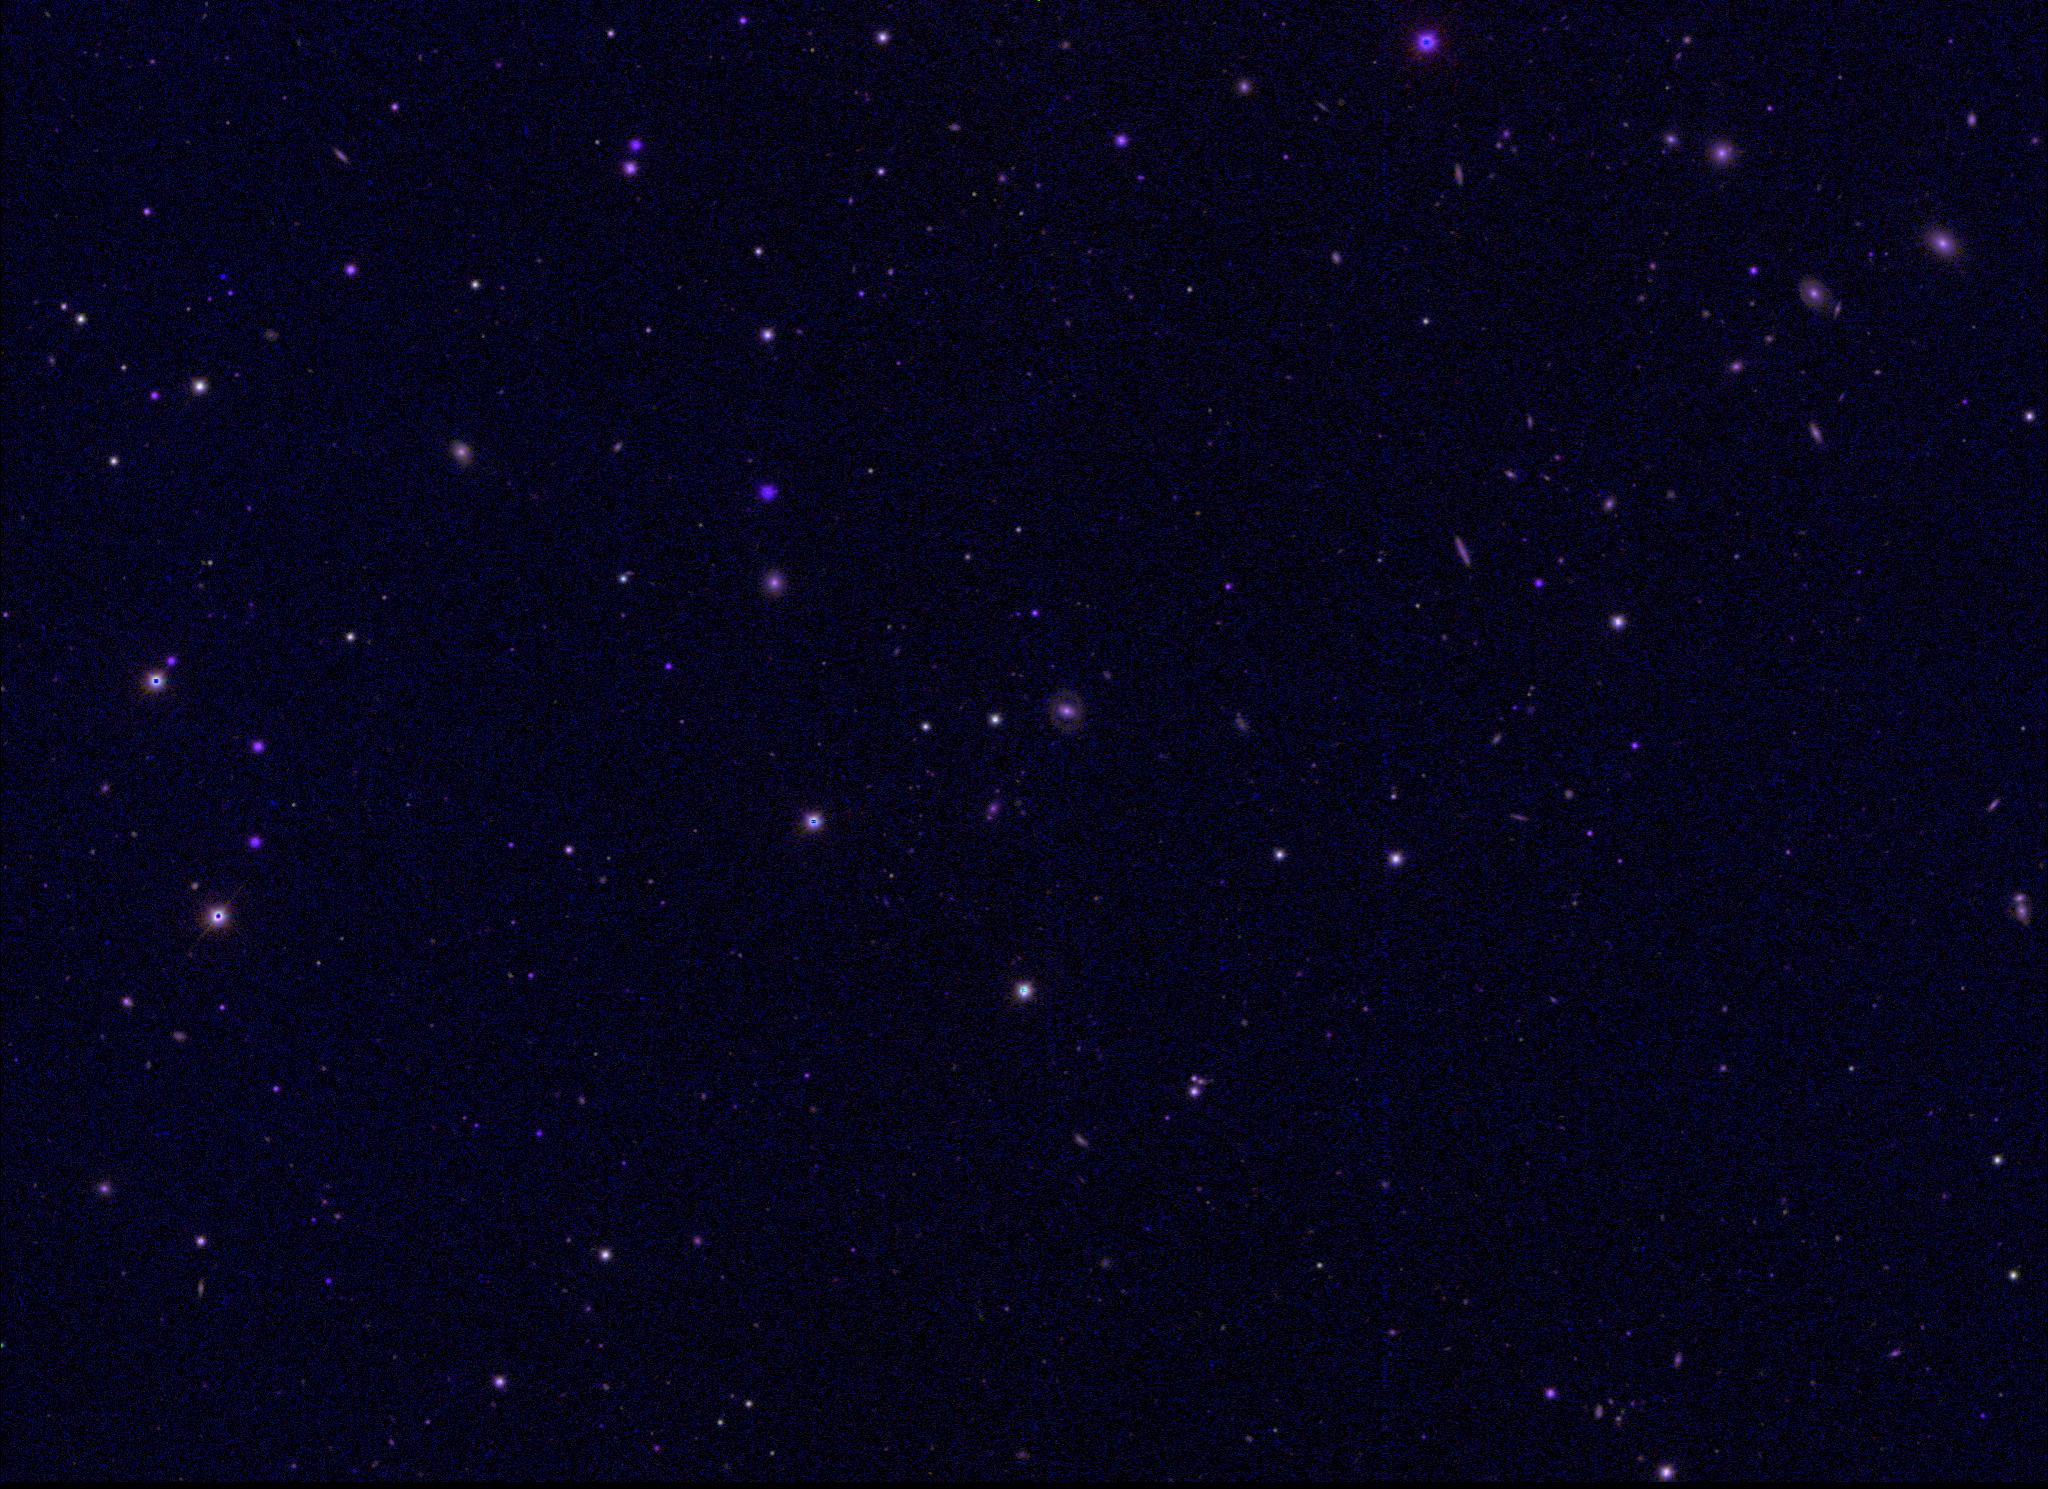L: (215, 269, 229, 283)
